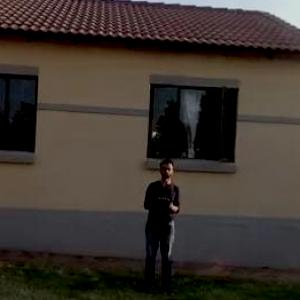follow: (138, 151, 186, 299)
